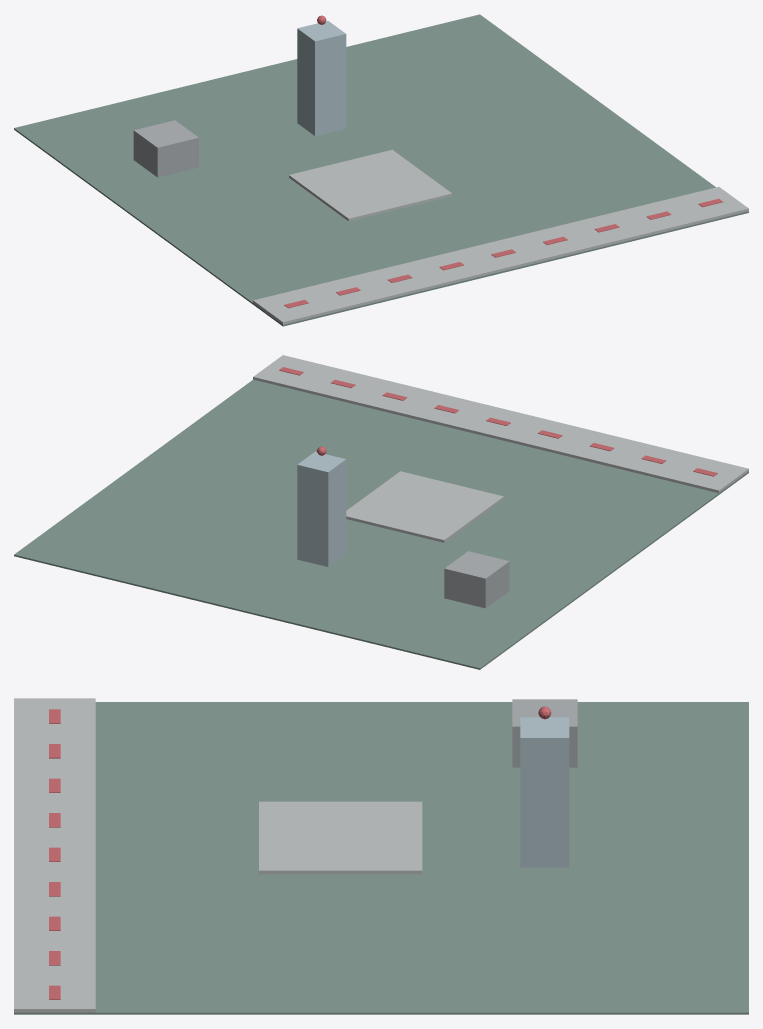
The model's file is stage_03.glb.
The picture shows the model from 3 angles, top to bottom: view 1: azimuth 30°, elevation 25°; view 2: azimuth 150°, elevation 25°; view 3: azimuth 270°, elevation 25°; orthographic projection. The views are drawn at different scales.
Parts seen in each view (by area): view 1: geometry_0; view 2: geometry_0; view 3: geometry_0.
Boxes of the visible parts, <box> form: geometry_0: <box>14,14,748,326</box>; geometry_0: <box>14,355,748,669</box>; geometry_0: <box>14,698,748,1014</box>.
Bounding box in the file's own units: 9 × 2.06 × 9.
